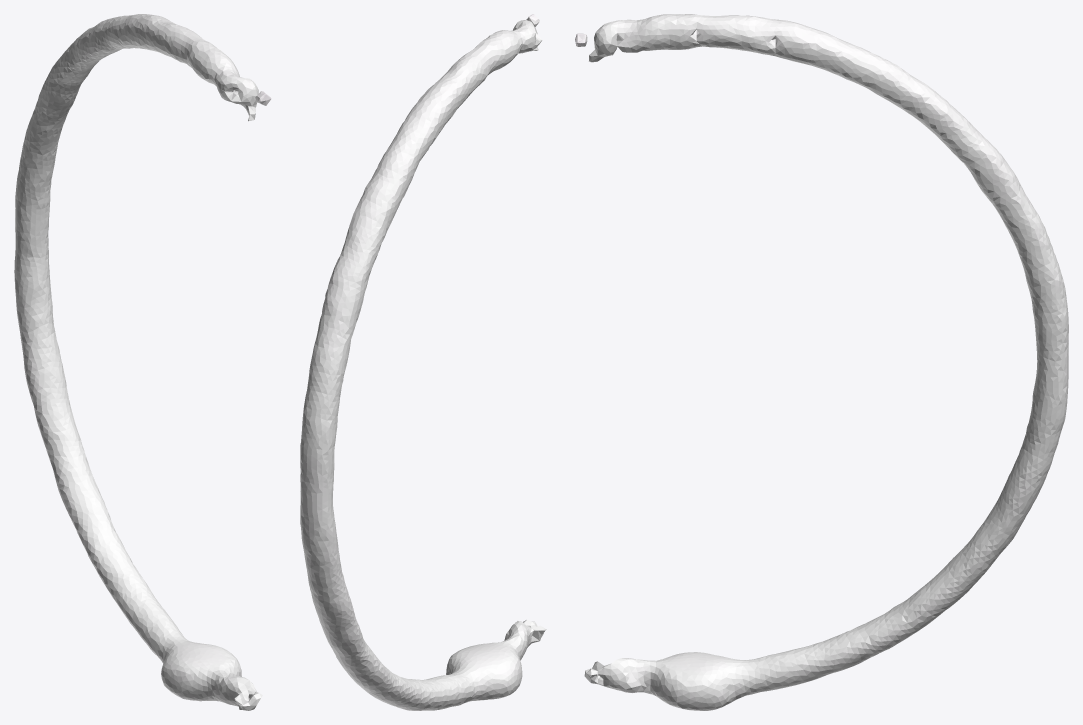
File: meridian_arch_refined.glb
The picture shows the model from 3 angles, left to right: view 1: azimuth 30°, elevation 25°; view 2: azimuth 150°, elevation 25°; view 3: azimuth 270°, elevation 25°; orthographic projection. The views are drawn at different scales.
Size of the model in its own units: 1.81 by 16.86 by 11.01.
Materials: 1 (1 with a texture image).
